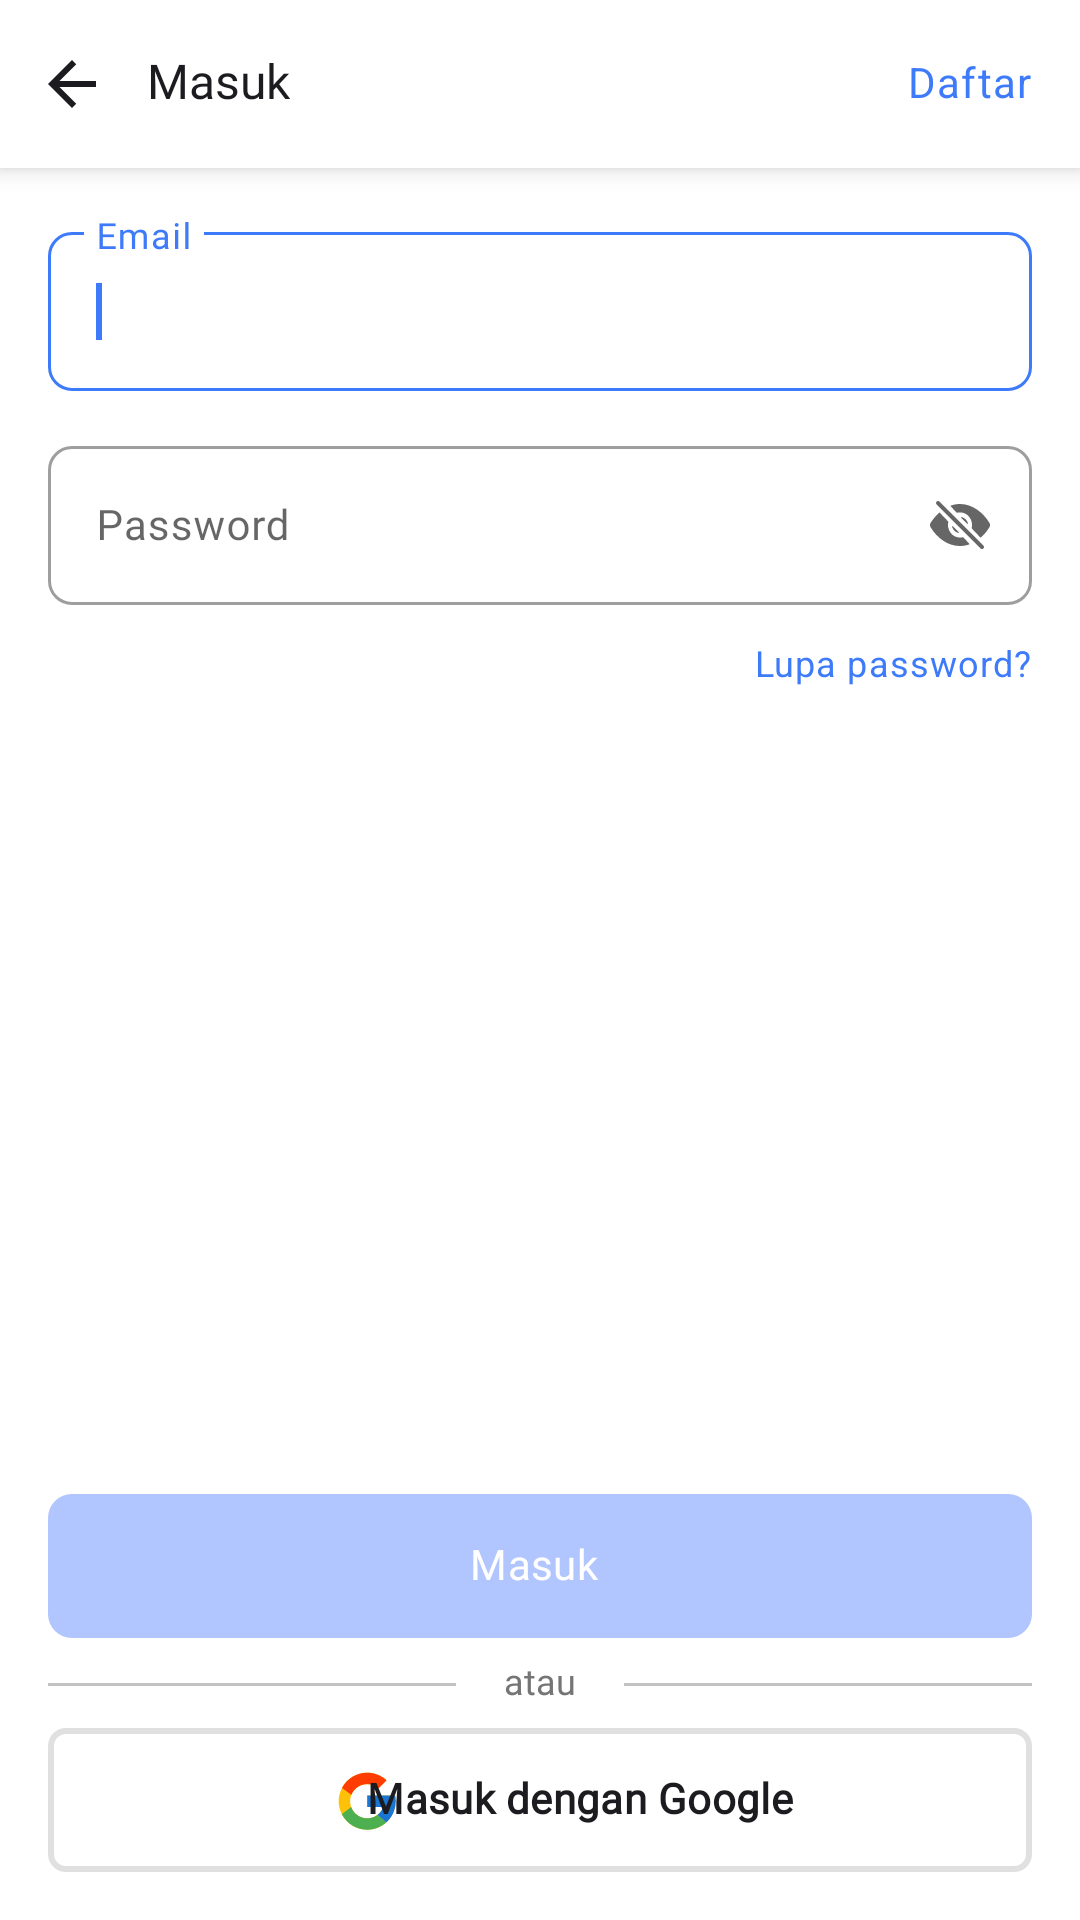

Named icons in this screenshot (1080*1920) and their centers, point (x, y):
all arrow back: point (72, 84)
